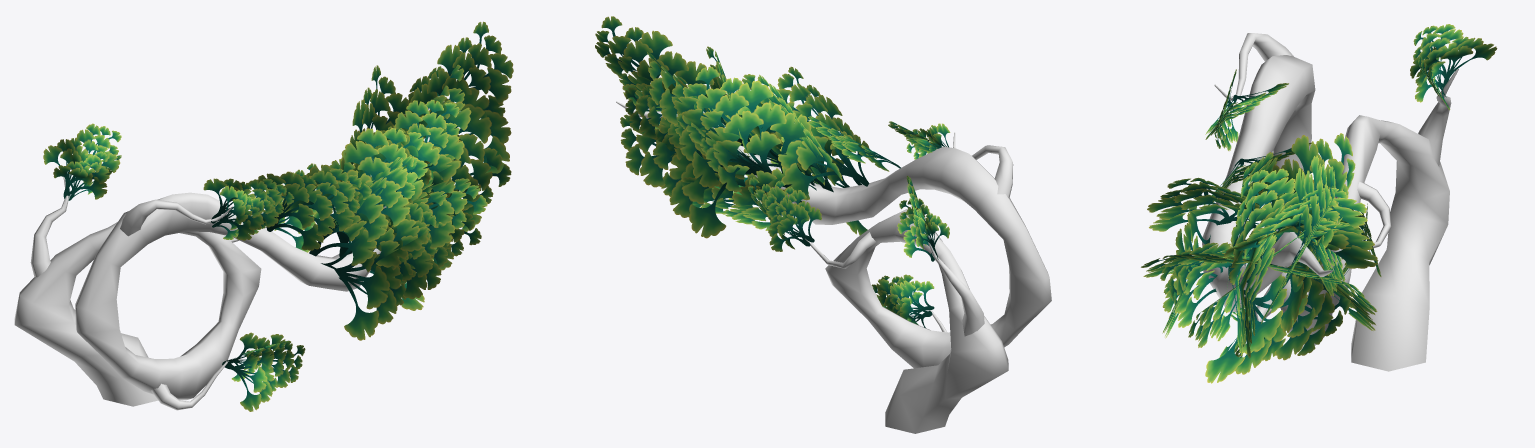
Rendered from Tree_03_01.fbx.
3 renders of one model, left to right at view 1: azimuth 30°, elevation 25°; view 2: azimuth 150°, elevation 25°; view 3: azimuth 270°, elevation 25°, orthographic. The views are drawn at different scales.
Visible parts, largest first — view 1: Plane.042, BezierCurve.056, Plane.044, Plane.043, Plane.045; view 2: Plane.042, BezierCurve.056, Plane.044, Plane.045, Plane.043; view 3: Plane.042, BezierCurve.056, Plane.044, Plane.043.
Boxes of the visible parts, x1,y1,x2,y2 form: Plane.042: (258,21,513,340); BezierCurve.056: (14,127,460,410); Plane.044: (43,123,121,200); Plane.043: (203,178,294,240); Plane.045: (222,332,305,411); Plane.042: (595,16,900,251); BezierCurve.056: (616,101,1051,433); Plane.044: (897,175,949,261); Plane.045: (871,274,934,327); Plane.043: (888,121,950,159); Plane.042: (1141,133,1381,383); BezierCurve.056: (1202,33,1458,371); Plane.044: (1410,24,1497,109); Plane.043: (1205,69,1288,150).
Bounding box in the file's own units: 2144 × 1391 × 1389.
1 material, 1 textured.
